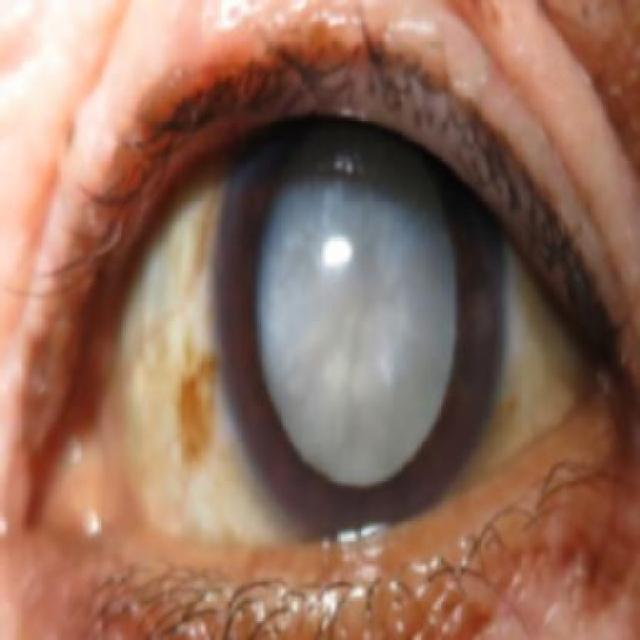Cataract: (208, 42, 506, 558)
